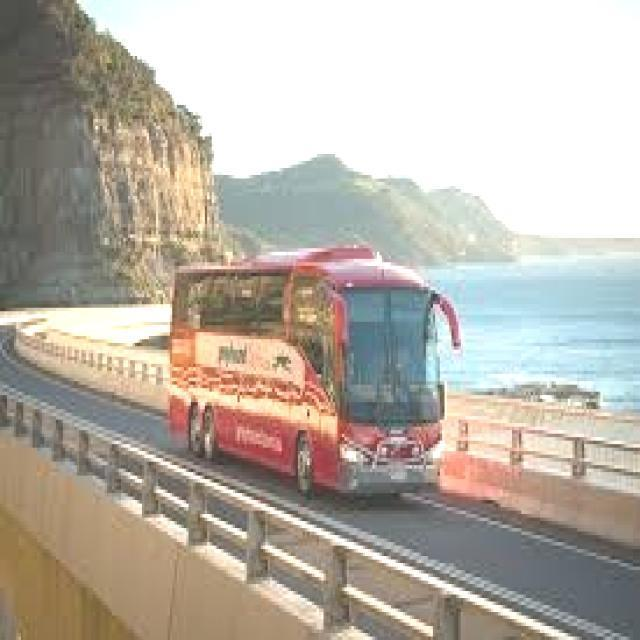Bus: (159, 240, 464, 508)
